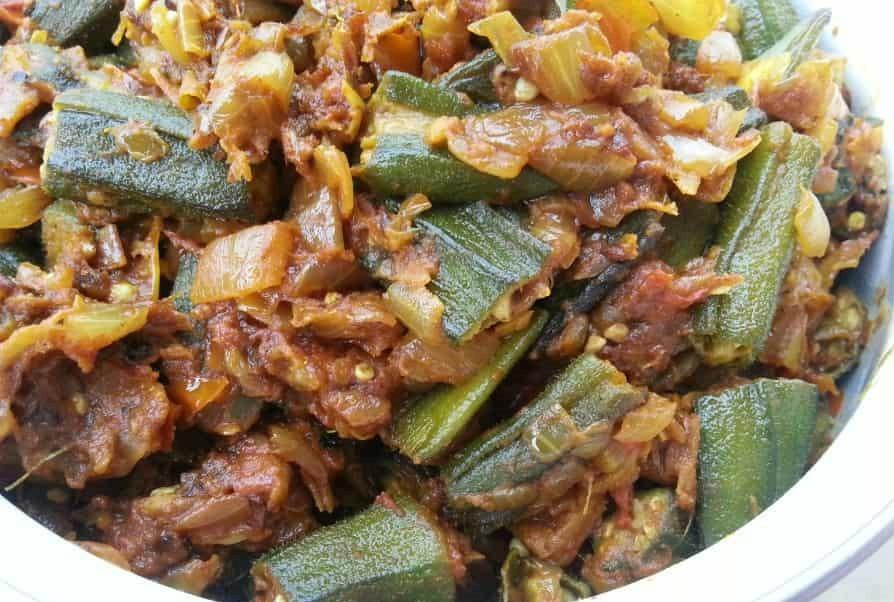BhindiMasala: (0, 1, 887, 602)
